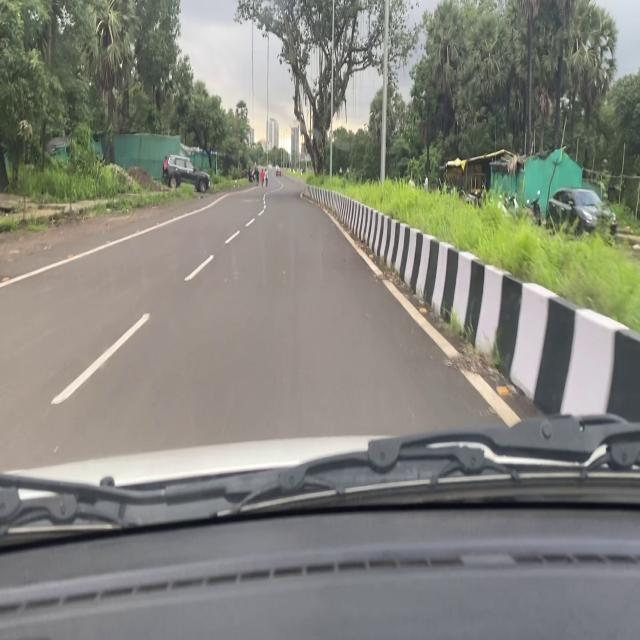lane: (2, 204, 262, 469), (303, 194, 528, 424), (1, 187, 244, 294)
